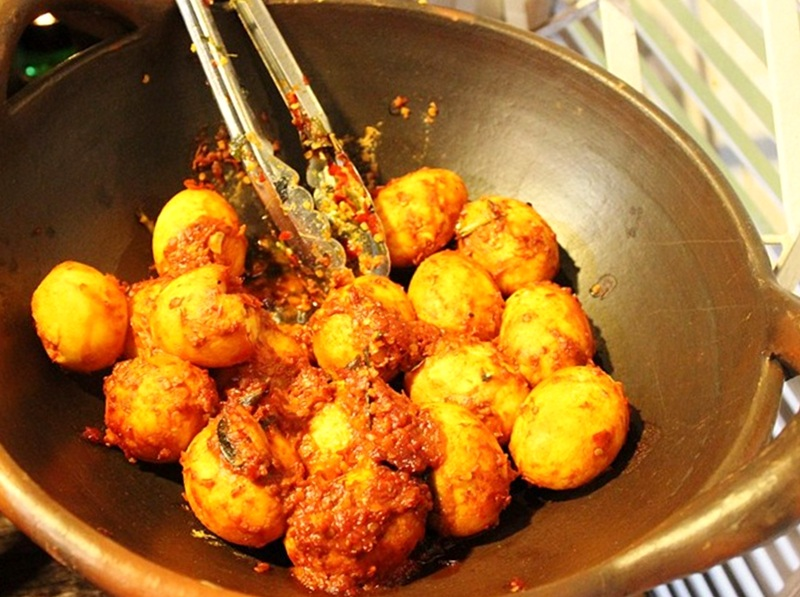Telur Balado: (42, 61, 713, 541)
